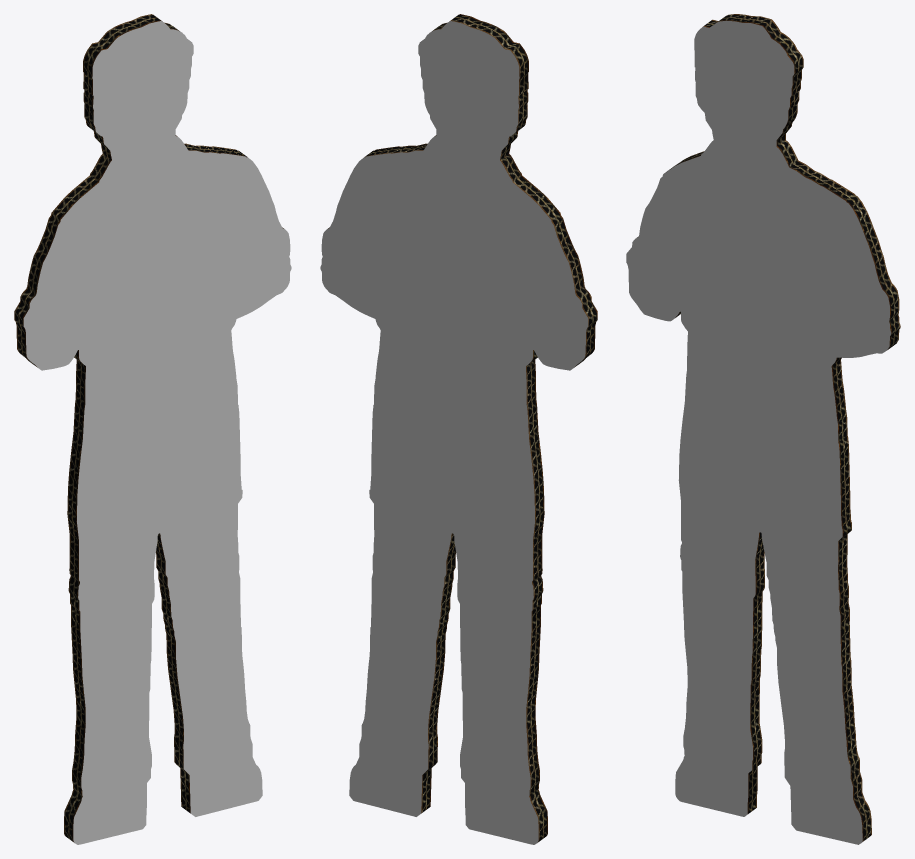
The model's file is NPC_Barista_Male_Standing.FBX.
3 views of the same model, side by side, from view 1: azimuth 30°, elevation 25°; view 2: azimuth 150°, elevation 25°; view 3: azimuth 330°, elevation 25° (orthographic).
Parts seen in each view (by area): view 1: NPC_11_step2; view 2: NPC_11_step2; view 3: NPC_11_step2.
Part boxes in pixels (x1,y1,x2,y2): NPC_11_step2: (14,14,291,844); NPC_11_step2: (320,14,597,844); NPC_11_step2: (626,14,900,844).
Bounding box in the file's own units: 23.31 × 66.93 × 1.42.
